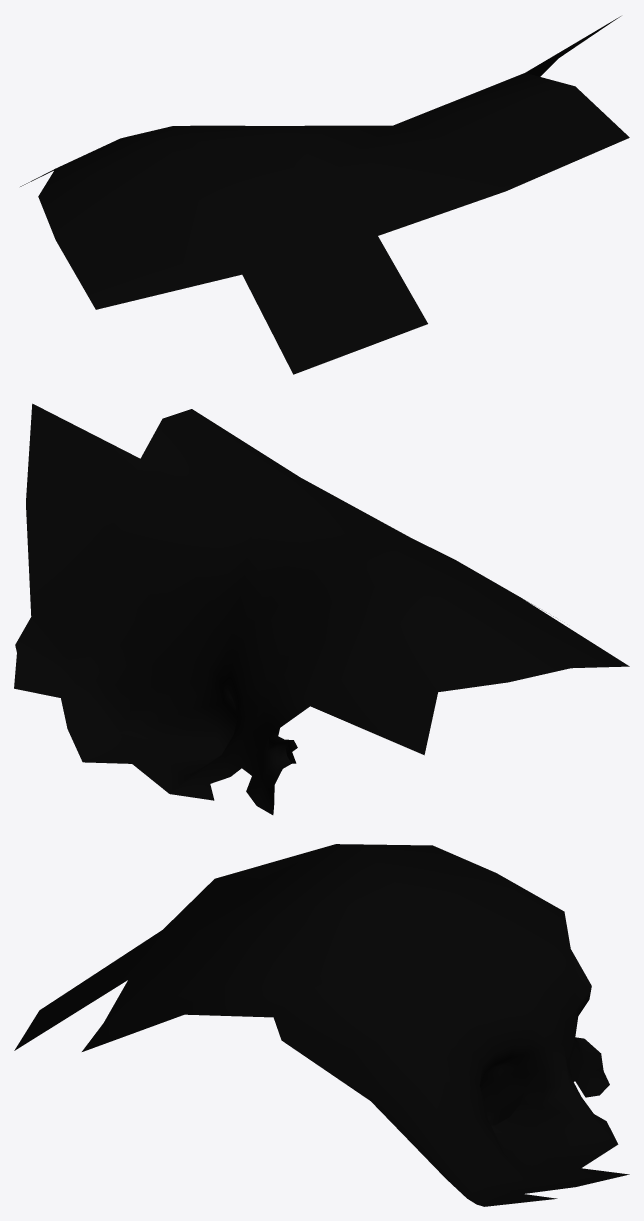
The model's file is HTOWN01_TREESHADOWS13.fbx.
3 renders of one model, top to bottom at view 1: azimuth 30°, elevation 25°; view 2: azimuth 150°, elevation 25°; view 3: azimuth 270°, elevation 25°, orthographic. The views are drawn at different scales.
Visible parts, largest first — view 1: HTOWN01_TREESHADOWS13; view 2: HTOWN01_TREESHADOWS13; view 3: HTOWN01_TREESHADOWS13.
Boxes of the visible parts, x1,y1,x2,y2 form: HTOWN01_TREESHADOWS13: [20, 16, 629, 374]; HTOWN01_TREESHADOWS13: [14, 403, 629, 814]; HTOWN01_TREESHADOWS13: [14, 844, 629, 1206].
Bounding box in the file's own units: 203991 × 75728 × 158008.
Materials: 1 (1 with a texture image).
